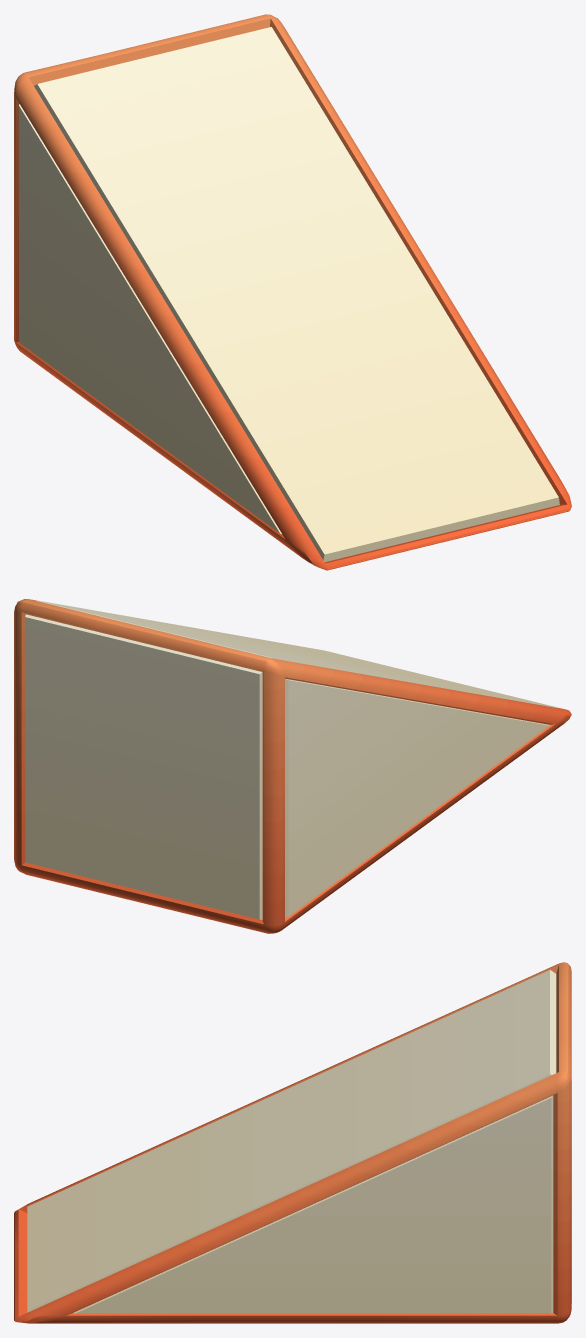
The model's file is sm_futuristic_ramp.fbx.
3 views of the same model, one above another, from view 1: azimuth 30°, elevation 25°; view 2: azimuth 150°, elevation 25°; view 3: azimuth 270°, elevation 25° (orthographic). The views are drawn at different scales.
Parts seen in each view (by area): view 1: sm_futuristic_ramp; view 2: sm_futuristic_ramp; view 3: sm_futuristic_ramp.
Boxes of the visible parts, box(x1,y1,x2,y2) form: sm_futuristic_ramp: box(14, 14, 571, 570); sm_futuristic_ramp: box(14, 599, 571, 933); sm_futuristic_ramp: box(14, 962, 571, 1323).
Size of the model in its own units: 301 by 592 by 295.
